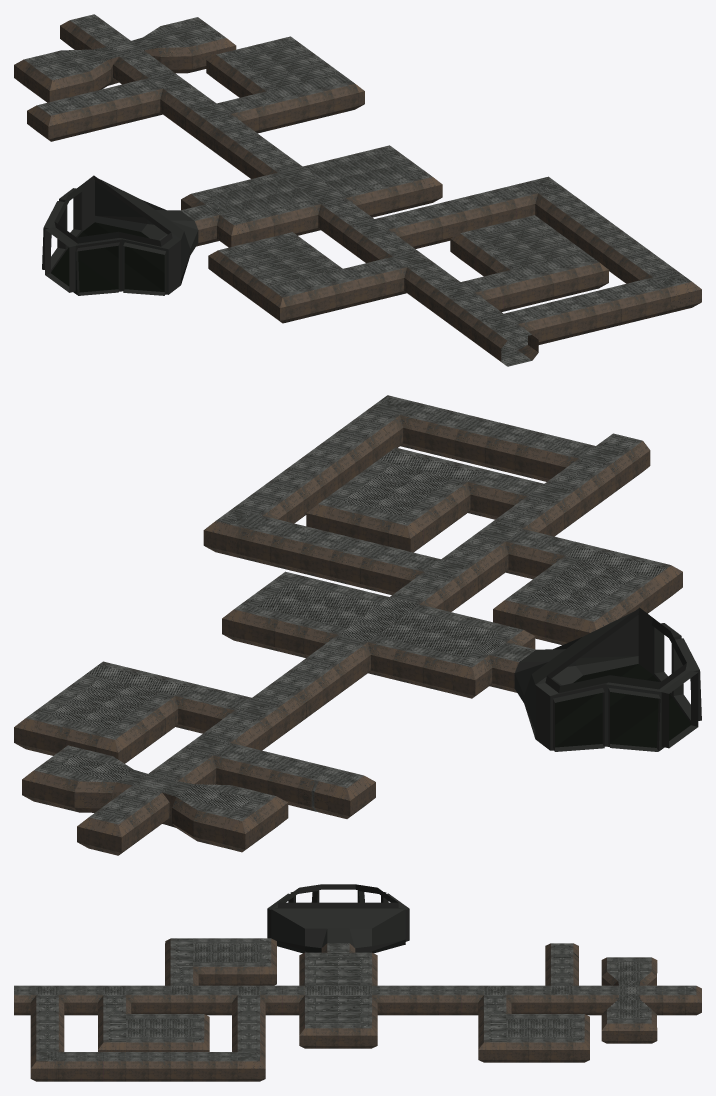
Rendered from Map.glb.
3 renders of one model, top to bottom at view 1: azimuth 30°, elevation 25°; view 2: azimuth 150°, elevation 25°; view 3: azimuth 270°, elevation 25°, orthographic. The views are drawn at different scales.
Visible parts, largest first — view 1: WallCorderInside-col.003; view 2: WallCorderInside-col.003; view 3: WallCorderInside-col.003.
Boxes of the visible parts, x1,y1,x2,y2 form: WallCorderInside-col.003: [14, 14, 701, 366]; WallCorderInside-col.003: [14, 395, 701, 855]; WallCorderInside-col.003: [14, 884, 701, 1081].
Size of the model in its own units: 71.97 by 9.9 by 123.
Materials: 1 (1 with a texture image).
